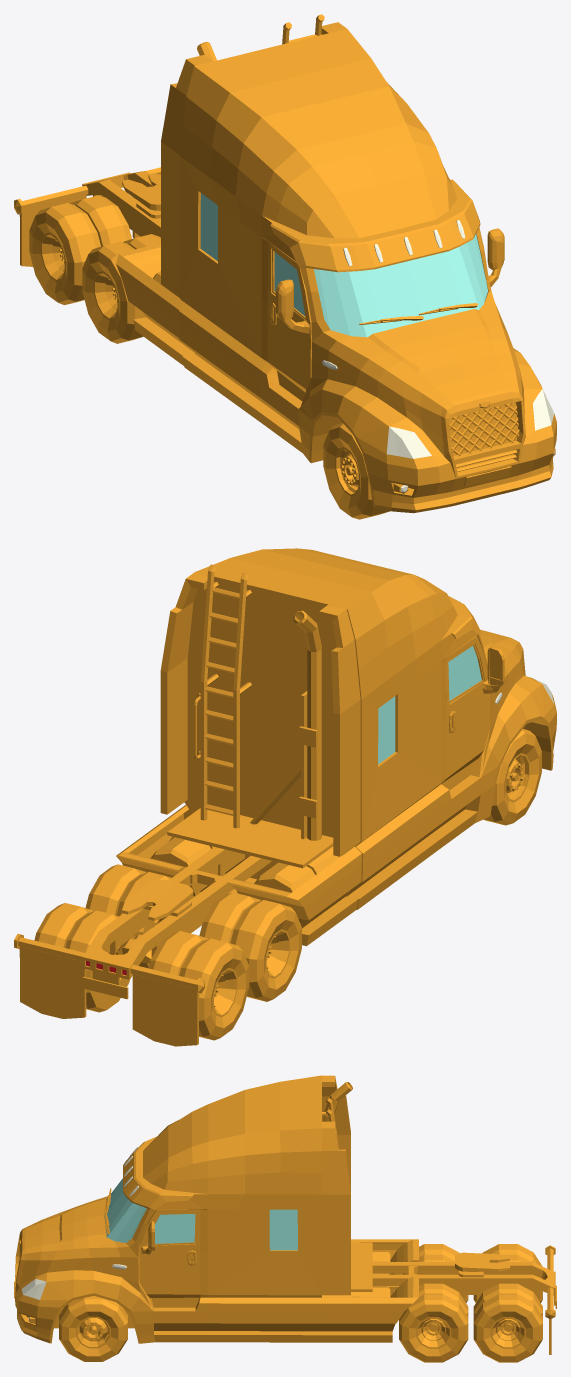
Rendered from SM_Car_Truck_Trailer_SleeperCab_Modern.fbx.
3 views of the same model, one above another, from view 1: azimuth 30°, elevation 25°; view 2: azimuth 150°, elevation 25°; view 3: azimuth 270°, elevation 25° (orthographic). The views are drawn at different scales.
Visible parts, largest first — view 1: truck-sleeper-cab-modern-base, truck-sleeper-cab-modern-wheel-rba, truck-sleeper-cab-modern-door-rfr, truck-sleeper-cab-modern-wheel-rmi, truck-sleeper-cab-modern-wheel-rfr, truck-sleeper-cab-modern-door-lfr; view 2: truck-sleeper-cab-modern-base, truck-sleeper-cab-modern-wheel-rmi, truck-sleeper-cab-modern-wheel-rba, truck-sleeper-cab-modern-door-rfr, truck-sleeper-cab-modern-wheel-rfr, truck-sleeper-cab-modern-wheel-lba, truck-sleeper-cab-modern-wheel-lmi; view 3: truck-sleeper-cab-modern-base, truck-sleeper-cab-modern-door-lfr, truck-sleeper-cab-modern-wheel-lba, truck-sleeper-cab-modern-wheel-lmi, truck-sleeper-cab-modern-wheel-lfr, truck-sleeper-cab-modern-wheel-rba, truck-sleeper-cab-modern-wheel-rmi.
Boxes of the visible parts, left/top/right/bottom form: truck-sleeper-cab-modern-base: left=14, top=14, right=556, bottom=513; truck-sleeper-cab-modern-wheel-rba: left=29, top=195, right=131, bottom=304; truck-sleeper-cab-modern-door-rfr: left=267, top=242, right=311, bottom=392; truck-sleeper-cab-modern-wheel-rmi: left=82, top=234, right=160, bottom=343; truck-sleeper-cab-modern-wheel-rfr: left=323, top=422, right=389, bottom=519; truck-sleeper-cab-modern-door-lfr: left=483, top=228, right=504, bottom=286; truck-sleeper-cab-modern-base: left=14, top=548, right=556, bottom=1046; truck-sleeper-cab-modern-wheel-rmi: left=199, top=892, right=301, bottom=1001; truck-sleeper-cab-modern-wheel-rba: left=148, top=931, right=248, bottom=1040; truck-sleeper-cab-modern-door-rfr: left=441, top=636, right=504, bottom=783; truck-sleeper-cab-modern-wheel-rfr: left=483, top=729, right=541, bottom=825; truck-sleeper-cab-modern-wheel-lba: left=34, top=903, right=134, bottom=1012; truck-sleeper-cab-modern-wheel-lmi: left=85, top=864, right=171, bottom=967; truck-sleeper-cab-modern-base: left=14, top=1075, right=556, bottom=1354; truck-sleeper-cab-modern-door-lfr: left=139, top=1209, right=200, bottom=1297; truck-sleeper-cab-modern-wheel-lba: left=473, top=1283, right=542, bottom=1362; truck-sleeper-cab-modern-wheel-lmi: left=399, top=1283, right=468, bottom=1362; truck-sleeper-cab-modern-wheel-lfr: left=59, top=1296, right=127, bottom=1361; truck-sleeper-cab-modern-wheel-rba: left=473, top=1244, right=542, bottom=1302; truck-sleeper-cab-modern-wheel-rmi: left=403, top=1244, right=468, bottom=1302.
Bounding box in the file's own units: 2.88 × 4.19 × 8.45.
